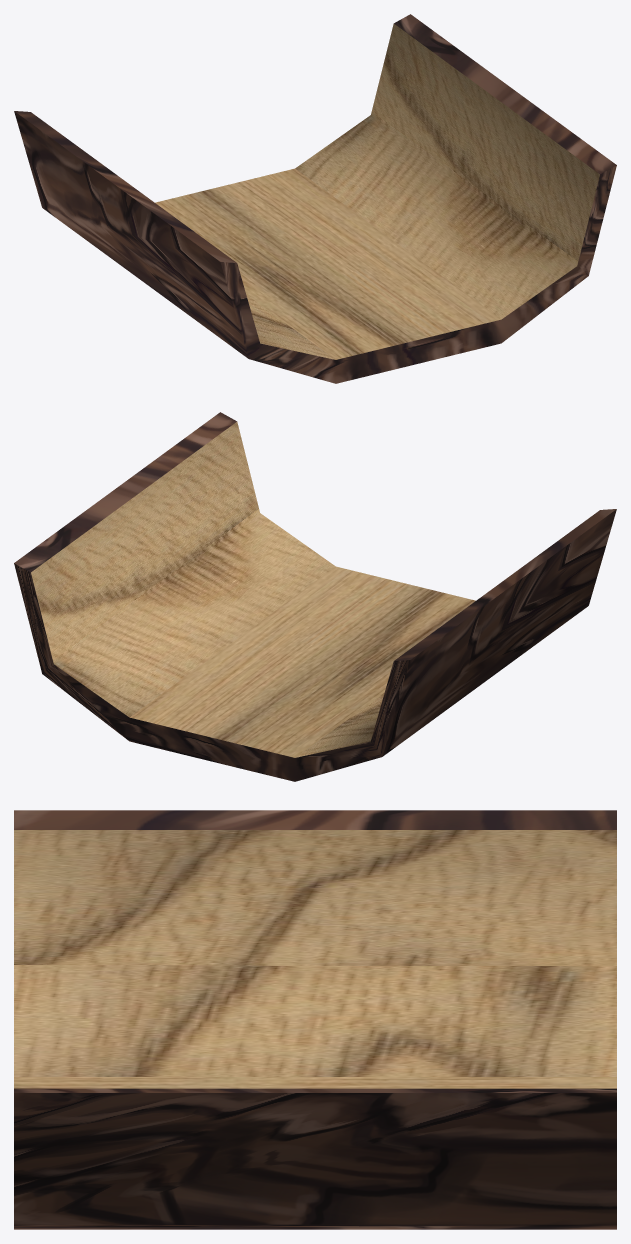
File: OniscideaPlatform.fbx
3 renders of one model, top to bottom at view 1: azimuth 30°, elevation 25°; view 2: azimuth 150°, elevation 25°; view 3: azimuth 270°, elevation 25°, orthographic. The views are drawn at different scales.
Parts seen in each view (by area): view 1: pCube1; view 2: pCube1; view 3: pCube1.
Boxes of the visible parts, x1,y1,x2,y2 form: pCube1: (14,14,616,383); pCube1: (14,412,616,781); pCube1: (14,810,616,1229).
Size of the model in its own units: 11.53 by 4.17 by 10.39.
